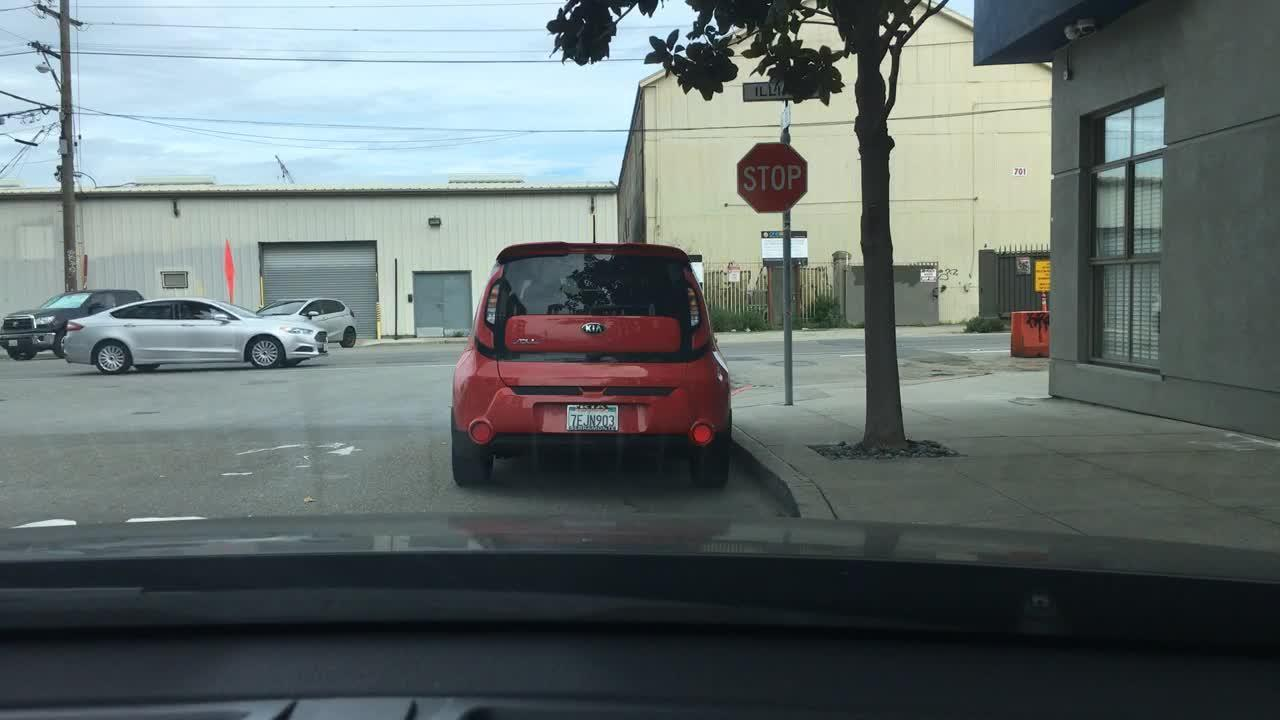kia: (577, 321, 610, 339)
